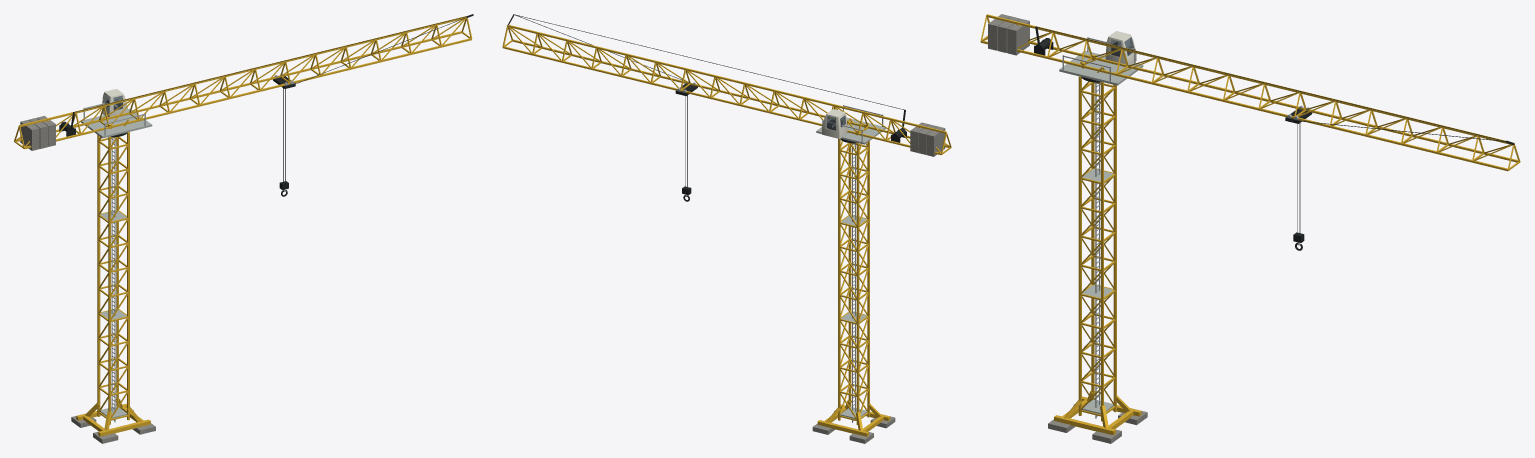
The model's file is tower-crane.glb.
3 renders of one model, left to right at view 1: azimuth 30°, elevation 25°; view 2: azimuth 150°, elevation 25°; view 3: azimuth 330°, elevation 25°, orthographic. The views are drawn at different scales.
Visible parts, largest first — view 1: Counterjib apex chord, Mast diagonal X 0 1, Mast ladder continuous stringer 220, Seated counterweight block 0, Tower drum to elevated guide rope, Tower angled base strut 1600 1600, Tower upper working deck, Tower finite concrete base shoe 1600 1600, Mast seated maintenance platform 0; view 2: Mast diagonal X 0 1, Counterjib apex chord, Seated counterweight block 0, Tower drum to elevated guide rope, Tower angled base strut 1600 1600, Mast ladder continuous stringer 220, Tower upper working deck, Tower operator cabin hollow rounded shell with actual apertu, Tower finite concrete base shoe 1600 1600; view 3: Counterjib apex chord, Mast diagonal X 0 1, Seated counterweight block 0, Mast ladder continuous stringer 220, Tower angled base strut 1600 1600, Tower drum to elevated guide rope, Tower upper working deck, Tower finite concrete base shoe 1600 1600, Mast seated maintenance platform 0, Tower operator cabin hollow rounded shell with actual apertu.
Boxes of the visible parts, <box> form: Counterjib apex chord: <box>14,16,472,149</box>; Mast diagonal X 0 1: <box>97,115,129,424</box>; Mast ladder continuous stringer 220: <box>111,137,115,422</box>; Seated counterweight block 0: <box>20,116,55,150</box>; Tower drum to elevated guide rope: <box>59,14,473,137</box>; Tower angled base strut 1600 1600: <box>76,398,150,436</box>; Tower upper working deck: <box>81,109,152,138</box>; Tower finite concrete base shoe 1600 1600: <box>71,410,155,443</box>; Mast seated maintenance platform 0: <box>100,210,127,418</box>; Mast diagonal X 0 1: <box>838,118,869,424</box>; Counterjib apex chord: <box>502,25,951,154</box>; Seated counterweight block 0: <box>910,122,945,156</box>; Tower drum to elevated guide rope: <box>507,14,906,143</box>; Tower angled base strut 1600 1600: <box>817,399,890,436</box>; Mast ladder continuous stringer 220: <box>852,143,855,422</box>; Tower upper working deck: <box>816,117,885,144</box>; Tower operator cabin hollow rounded shell with actual apertu: <box>821,109,847,138</box>; Tower finite concrete base shoe 1600 1600: <box>812,411,895,443</box>; Counterjib apex chord: <box>980,14,1520,171</box>; Mast diagonal X 0 1: <box>1078,60,1116,421</box>; Seated counterweight block 0: <box>988,14,1029,55</box>; Mast ladder continuous stringer 220: <box>1095,82,1100,418</box>; Tower angled base strut 1600 1600: <box>1054,391,1141,435</box>; Tower drum to elevated guide rope: <box>1034,26,1514,144</box>; Tower upper working deck: <box>1059,50,1143,85</box>; Tower finite concrete base shoe 1600 1600: <box>1048,403,1147,443</box>; Mast seated maintenance platform 0: <box>1082,168,1113,414</box>; Tower operator cabin hollow rounded shell with actual apertu: <box>1105,31,1136,65</box>.
Bounding box in the file's own units: 38.13 × 26.81 × 4.55.
10 materials, 9 textured.
